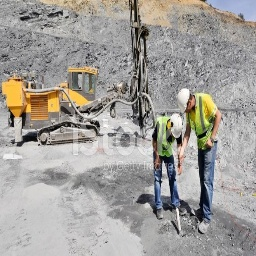helmet: (177, 88, 191, 116), (170, 114, 184, 141)
person: (176, 84, 223, 236), (150, 112, 189, 222)
vest: (193, 94, 216, 151)
